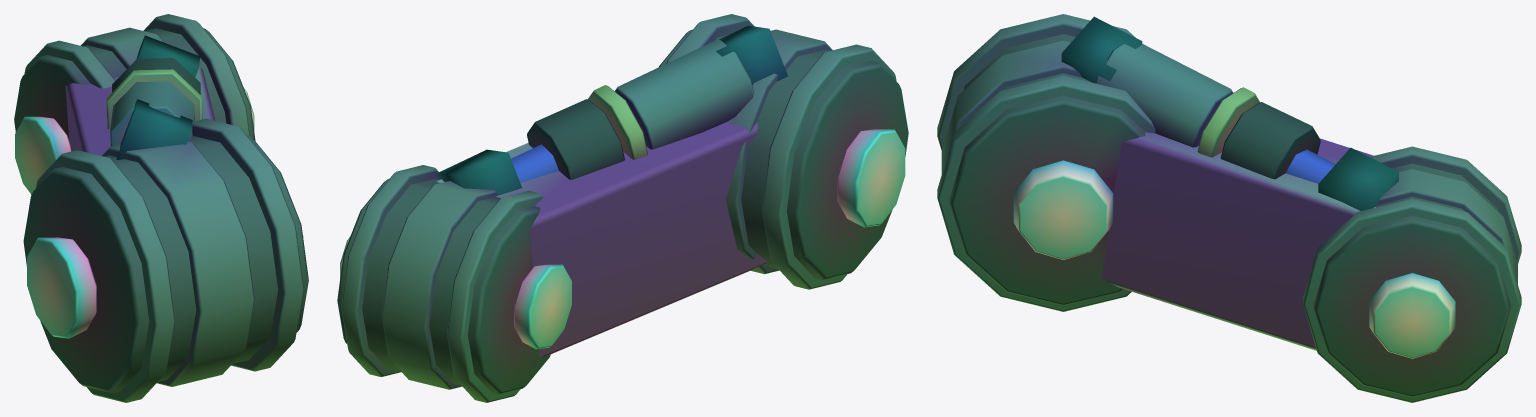
The model's file is kit_boss_arm_boom_r.glb.
3 views of the same model, side by side, from view 1: azimuth 30°, elevation 25°; view 2: azimuth 150°, elevation 25°; view 3: azimuth 270°, elevation 25° (orthographic). The views are drawn at different scales.
Parts seen in each view (by area): view 1: Body__gunmetal, Body__dark, Body__chrome, Body__armor, Body__brass, Body__rubber; view 2: Body__gunmetal, Body__dark, Body__armor, Body__chrome, Body__rubber, Body__brass; view 3: Body__dark, Body__gunmetal, Body__armor, Body__chrome, Body__rubber, Body__brass.
Boxes of the visible parts, x1,y1,x2,y2 form: Body__gunmetal: [24, 14, 303, 402]; Body__dark: [14, 28, 308, 393]; Body__chrome: [15, 88, 303, 338]; Body__armor: [65, 66, 215, 155]; Body__brass: [106, 69, 202, 129]; Body__rubber: [112, 58, 200, 94]; Body__gunmetal: [341, 14, 896, 402]; Body__dark: [337, 25, 908, 394]; Body__armor: [437, 122, 767, 356]; Body__chrome: [340, 129, 905, 349]; Body__rubber: [527, 99, 624, 179]; Body__brass: [588, 85, 647, 159]; Body__dark: [949, 16, 1510, 397]; Body__gunmetal: [937, 14, 1521, 402]; Body__armor: [1102, 132, 1375, 350]; Body__chrome: [1013, 149, 1455, 358]; Body__rubber: [1220, 102, 1320, 179]; Body__brass: [1197, 87, 1260, 157].
Size of the model in its own units: 0.5416 by 0.407 by 0.7708.
